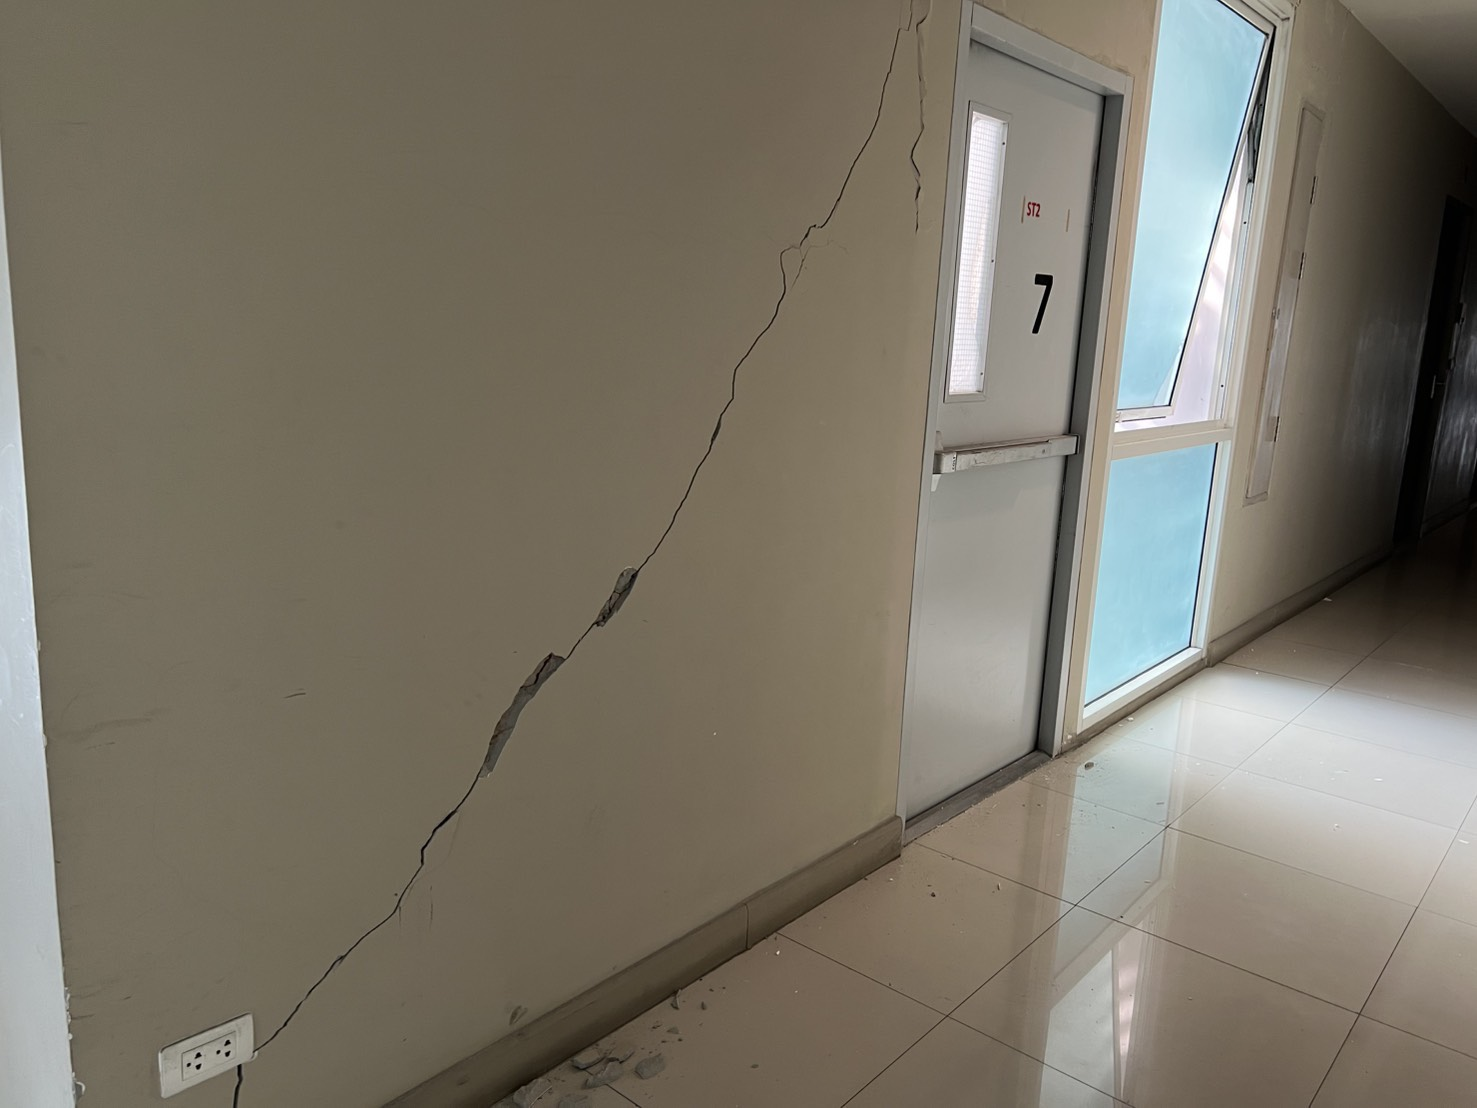Medium: (282, 269, 814, 853)
